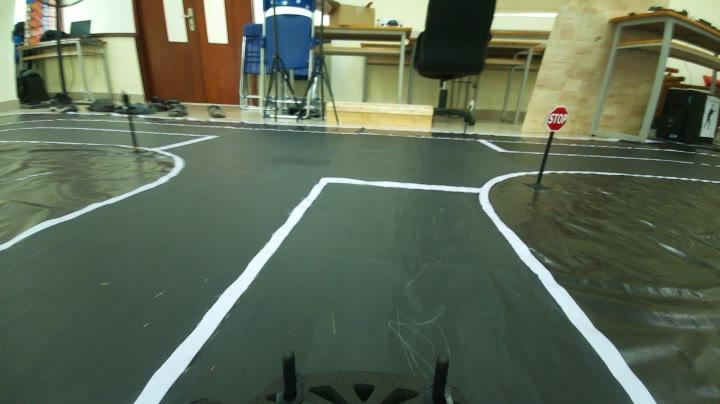stop: (544, 102, 572, 136)
